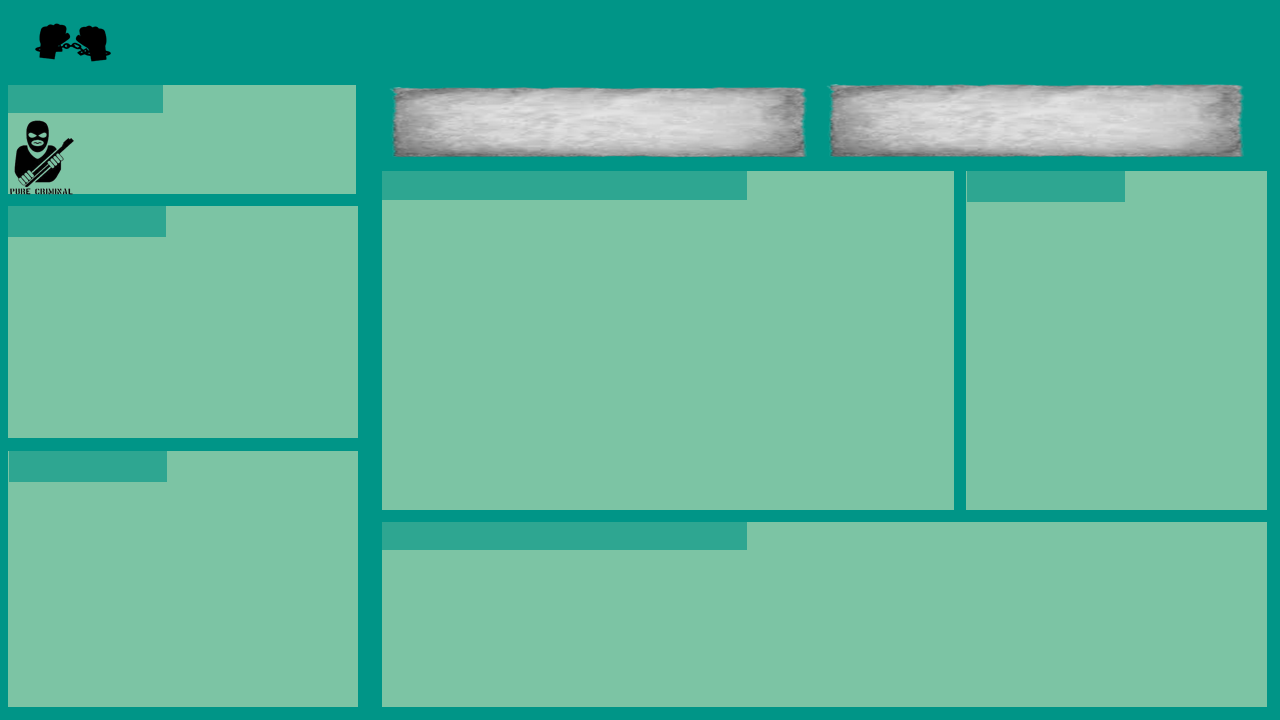

The page's visual inventory and layout, read from the dashboard file:
{"tool":"powerbi","page":{"name":"details ","canvas":[1280,720],"ordinal":1},"visuals":[{"type":"areaChart","fields":{"Category":["Crime Data.Crime Time"],"Y":["_mesure.total_crime"]},"box":[32,528,1232,176],"z":0},{"type":"actionButton","box":[0,0,100,40],"z":1000},{"type":"actionButton","box":[0,0,100,40],"z":2000},{"type":"card","fields":{"Values":["_mesure.drill_through"]},"box":[960,128,304,192],"z":3000},{"type":"clusteredColumnChart","fields":{"Y":["_mesure.total_crime"],"Category":["Crimes types.Crime"]},"box":[32,128,896,176],"z":4000},{"type":"textbox","box":[960,352,272,64],"z":5000},{"type":"card","fields":{"Values":["_mesure.cross"]},"box":[896,352,96,48],"z":6000},{"type":"textbox","box":[992,432,240,48],"z":7000},{"type":"card","fields":{"Values":["_mesure.check"]},"box":[928,432,64,48],"z":8000},{"type":"card","fields":{"Values":["Min(Crime Data.Crime Time)"]},"box":[592,416,224,80],"z":9000},{"type":"textbox","box":[32,352,384,48],"z":10000},{"type":"textbox","box":[32,384,512,112],"z":11000},{"type":"textbox","box":[32,32,352,64],"z":12000},{"type":"card","fields":{"Values":["_mesure.total_crime"]},"box":[816,32,320,80],"z":13000},{"type":"card","fields":{"Values":["Min(Crime Data.Crime Time)"]},"box":[592,352,224,48],"z":14000}]}

Visuals, with their boxes in screenshot pixels (x1, y1, x2, y2), scaled from the page's 1280x720 canvas onto the 1280x720 screenshot:
areaChart - Crime Data.Crime Time x _mesure.total_crime: pyautogui.locateOnScreen(32, 528, 1264, 704)
actionButton: pyautogui.locateOnScreen(0, 0, 100, 40)
actionButton: pyautogui.locateOnScreen(0, 0, 100, 40)
card - _mesure.drill_through: pyautogui.locateOnScreen(960, 128, 1264, 320)
clusteredColumnChart - _mesure.total_crime x Crimes types.Crime: pyautogui.locateOnScreen(32, 128, 928, 304)
textbox: pyautogui.locateOnScreen(960, 352, 1232, 416)
card - _mesure.cross: pyautogui.locateOnScreen(896, 352, 992, 400)
textbox: pyautogui.locateOnScreen(992, 432, 1232, 480)
card - _mesure.check: pyautogui.locateOnScreen(928, 432, 992, 480)
card - Min(Crime Data.Crime Time): pyautogui.locateOnScreen(592, 416, 816, 496)
textbox: pyautogui.locateOnScreen(32, 352, 416, 400)
textbox: pyautogui.locateOnScreen(32, 384, 544, 496)
textbox: pyautogui.locateOnScreen(32, 32, 384, 96)
card - _mesure.total_crime: pyautogui.locateOnScreen(816, 32, 1136, 112)
card - Min(Crime Data.Crime Time): pyautogui.locateOnScreen(592, 352, 816, 400)
